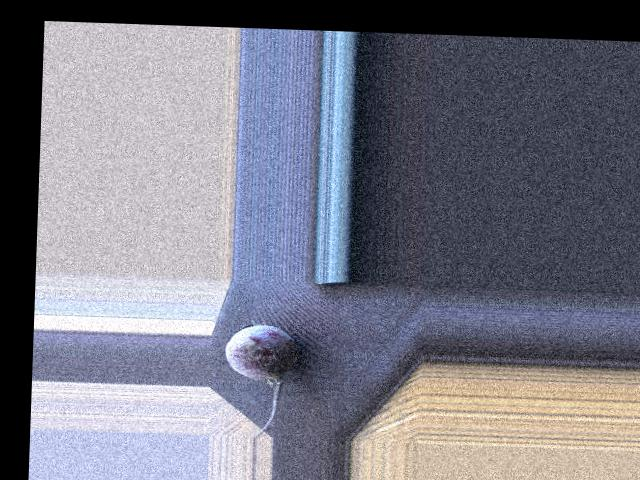beet: (223, 323, 299, 438)
